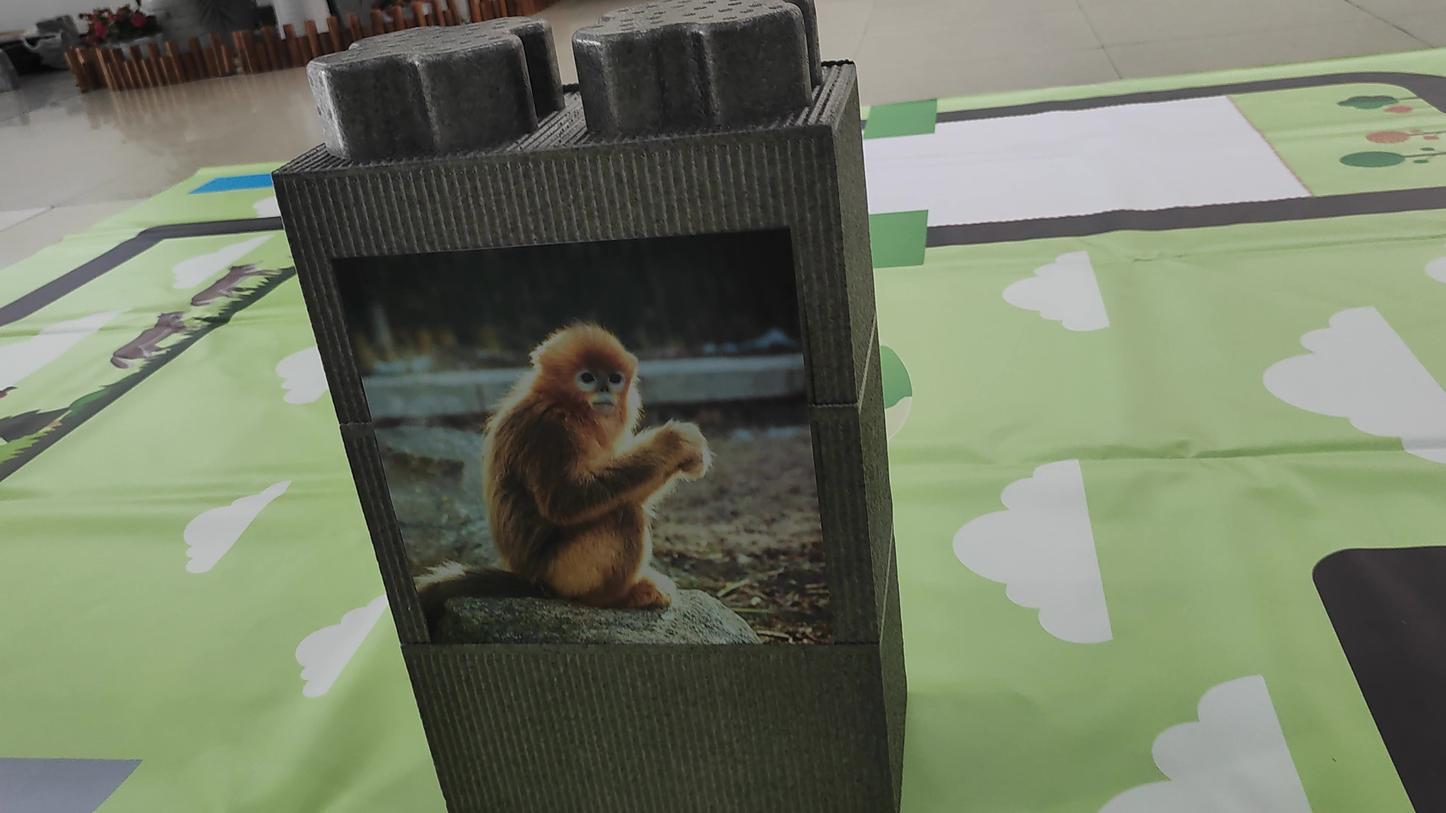monkey: (399, 279, 741, 652)
